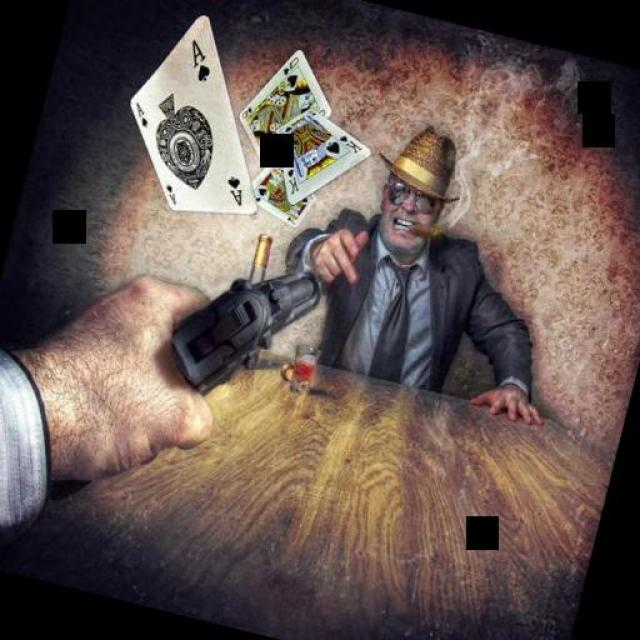gun: (150, 214, 334, 418)
